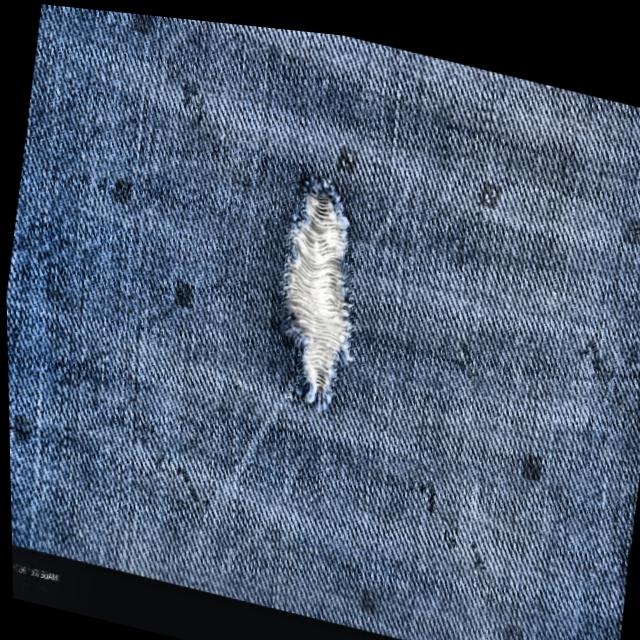Hole: (241, 152, 386, 419)
